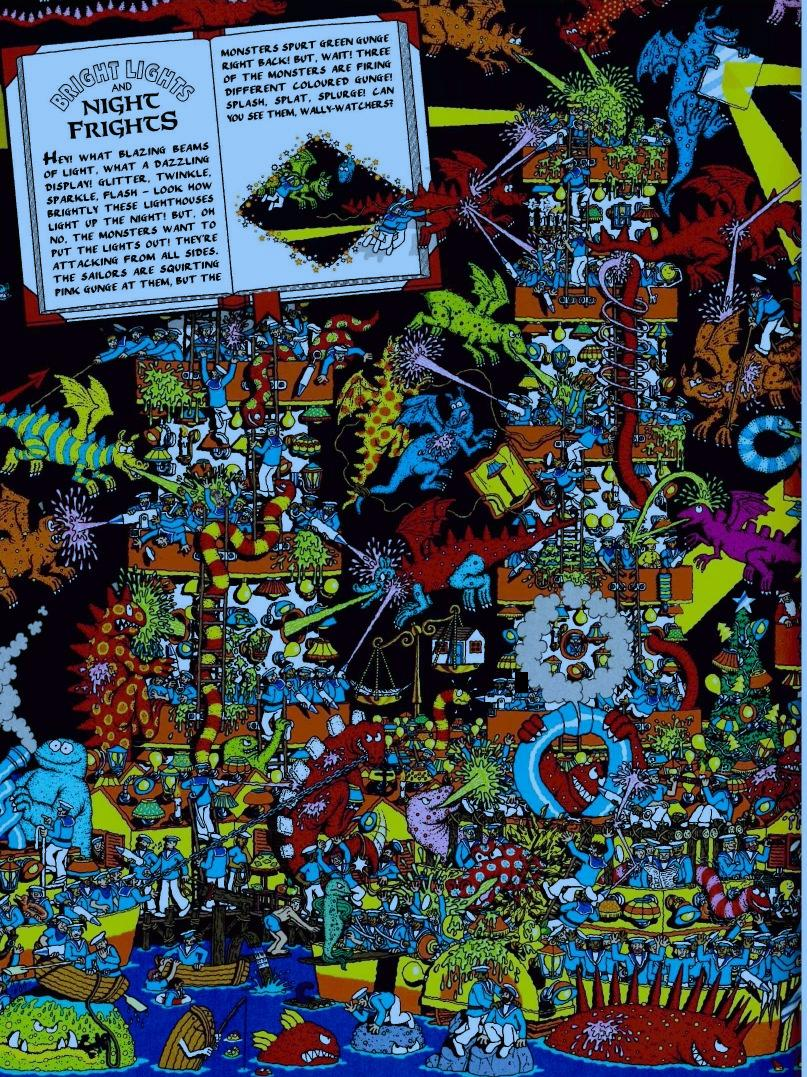waldos: (209, 488, 222, 509)
